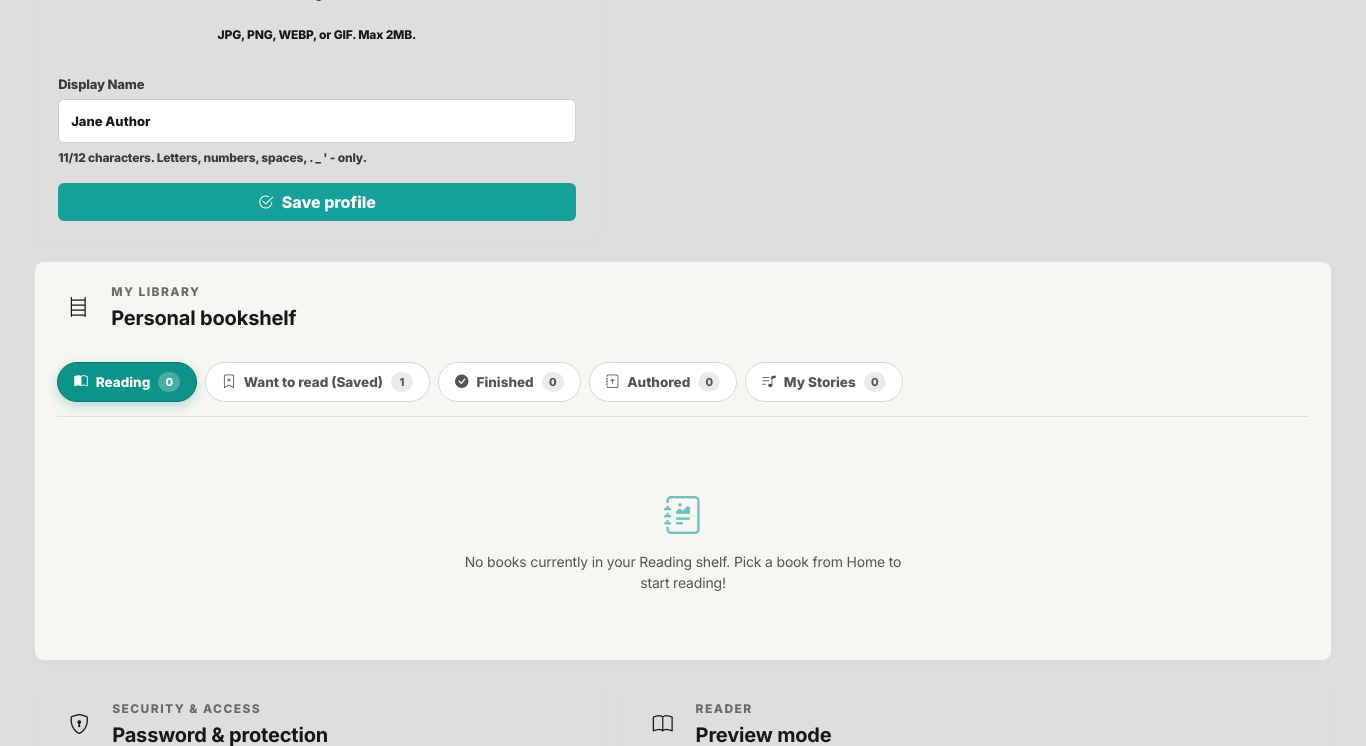
Scenario: ProfilePage - Personal Bookshelf and Authored Deletion Flow › removes book from shelf when remove button is clicked
(page scrolled)
Click the tab "Want to read (Saved) 1".
click(318, 382)  # box top-left (205, 362), bottom-right (430, 402)
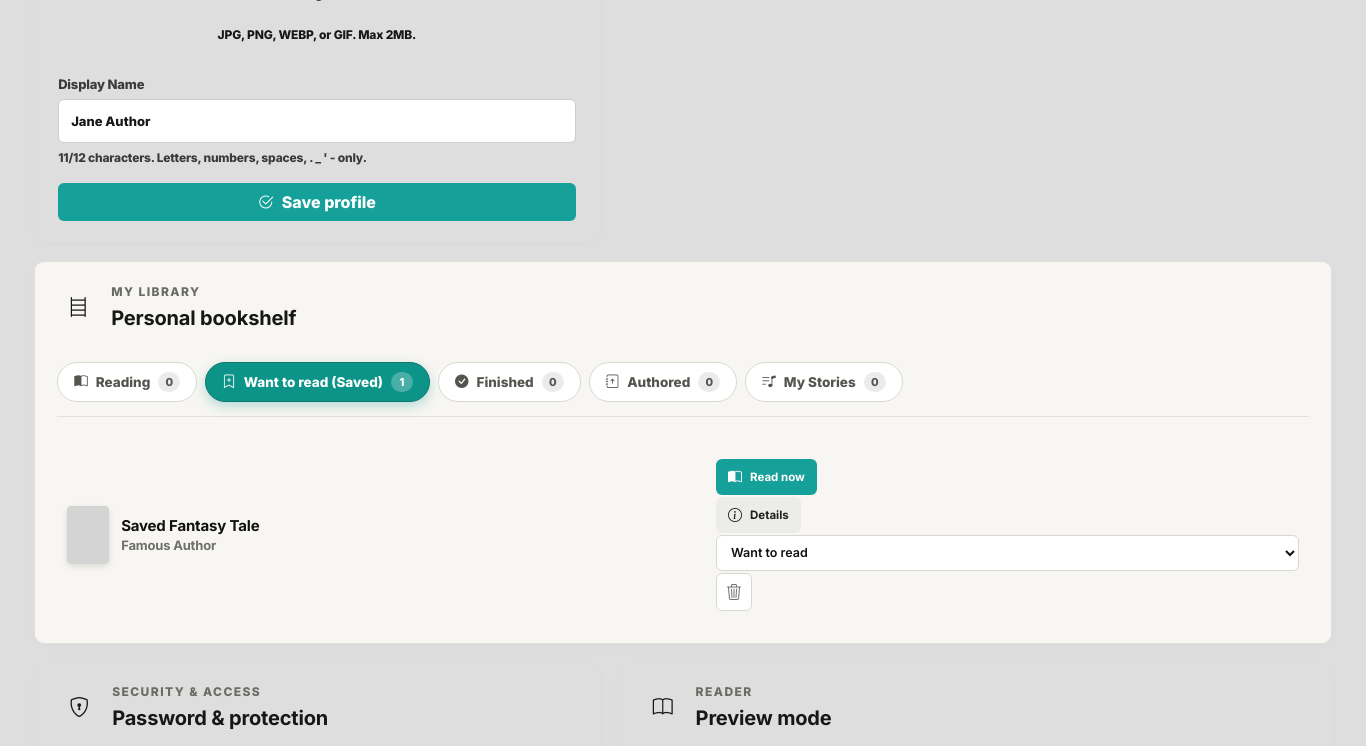
Expected: the text "Saved Fantasy Tale" is shown, top-left (121, 516), bottom-right (259, 535)
Expected: the button named "Remove Saved Fantasy Tale from shelf" is shown
Click the button named "Remove Saved Fantasy Tale from shelf".
click(734, 592)  # box top-left (716, 572), bottom-right (752, 610)
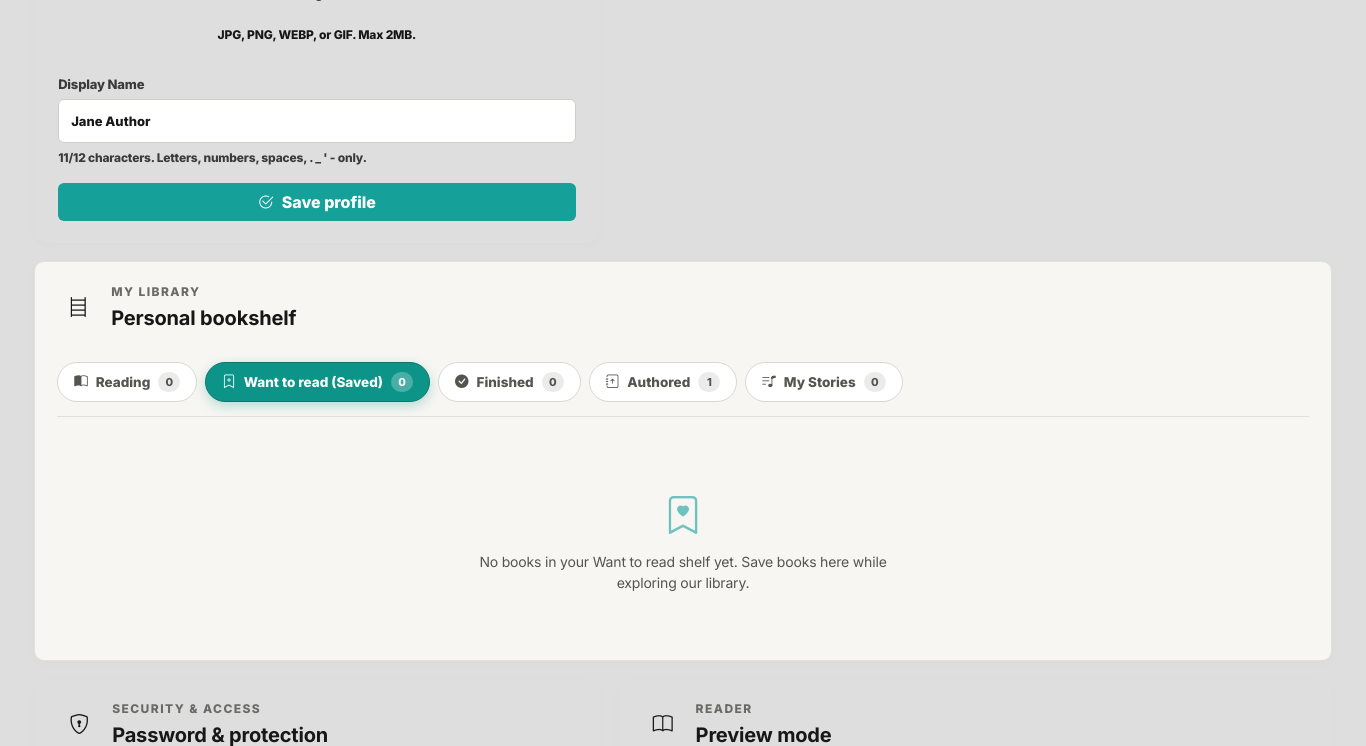
Expected: the text "Saved Fantasy Tale" is gone
